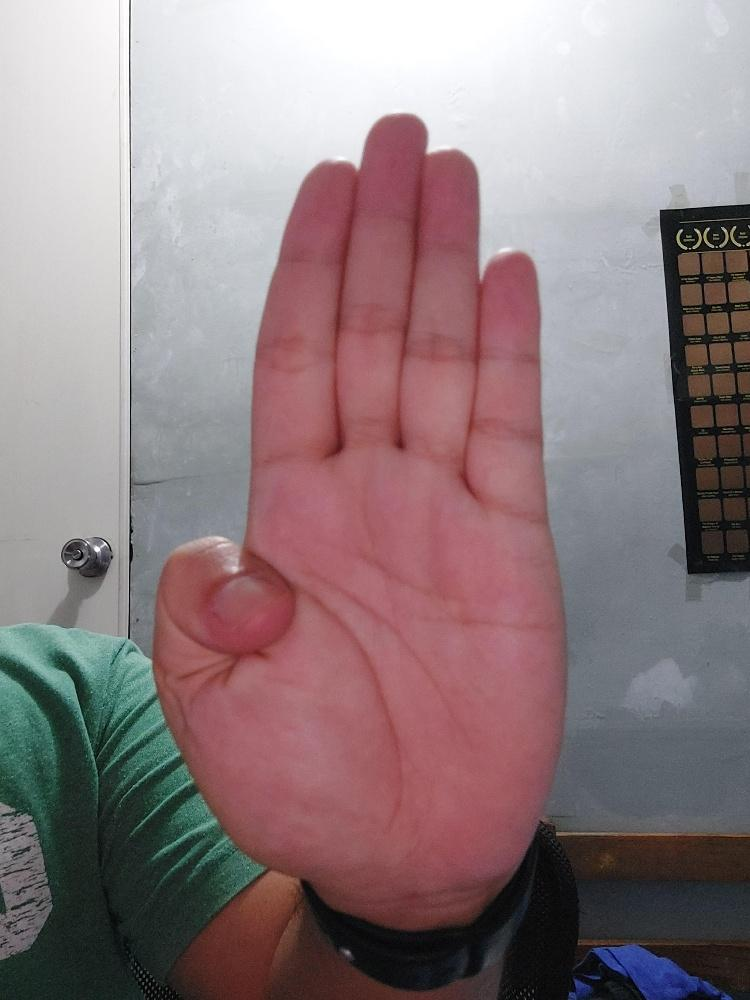b: (152, 112, 567, 913)
